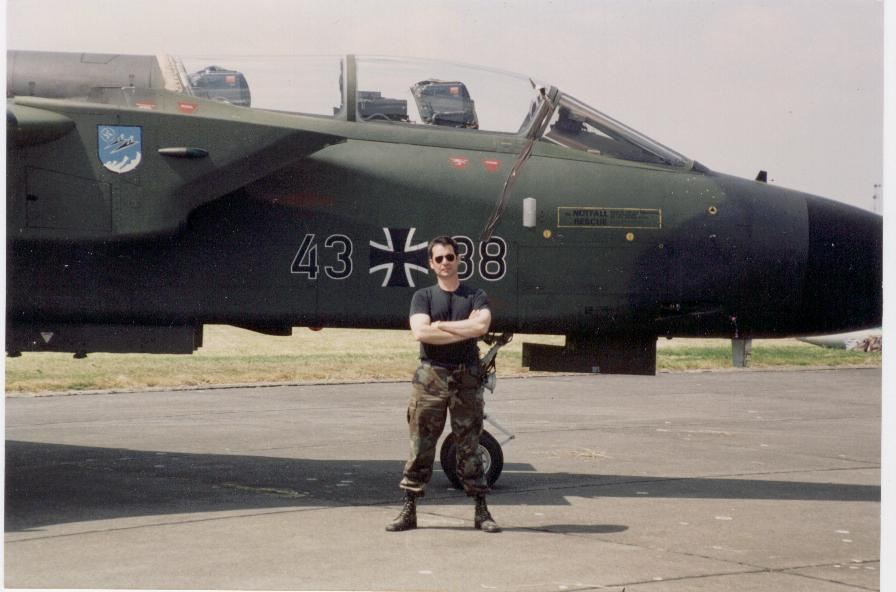Tornado: (4, 48, 882, 488)
